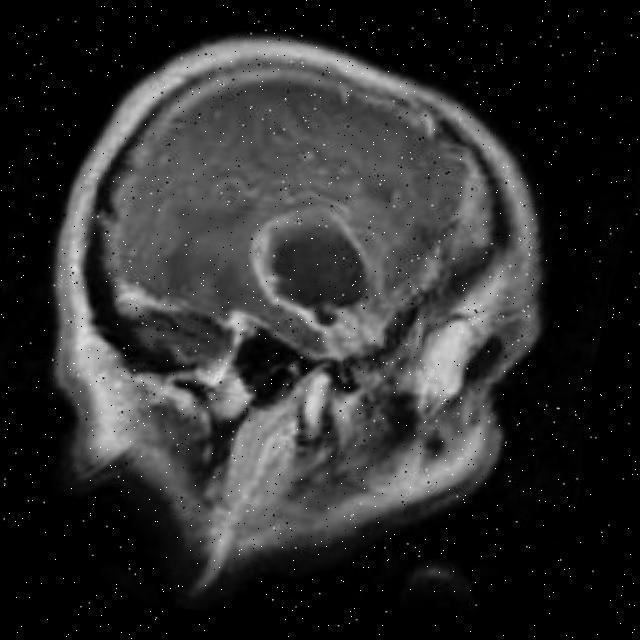LMCI: (251, 221, 398, 360)
